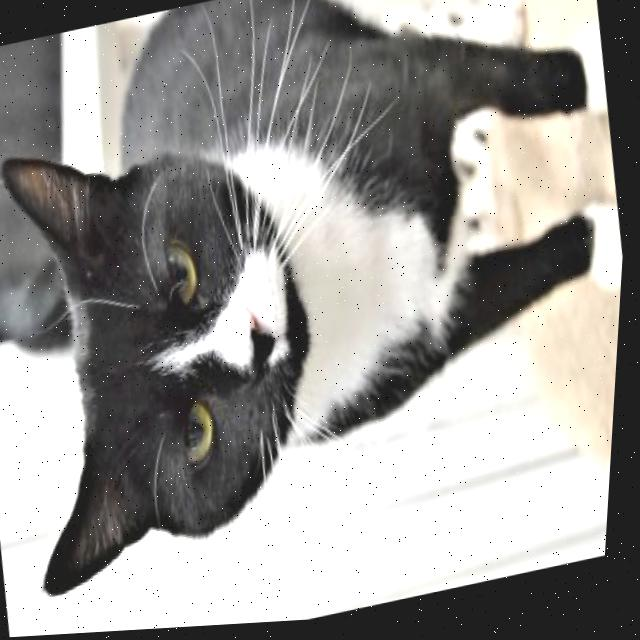Tuxedo: (0, 0, 640, 608)
